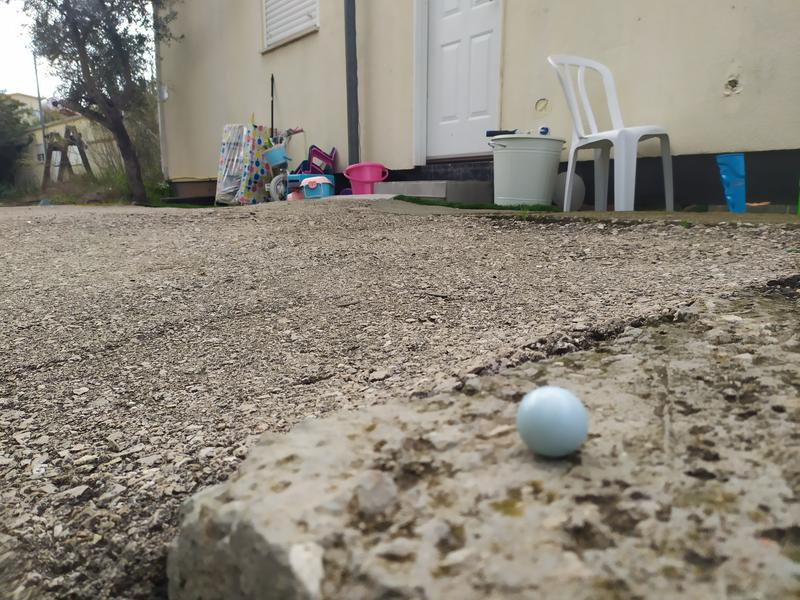Warning: (514, 382, 593, 461)
